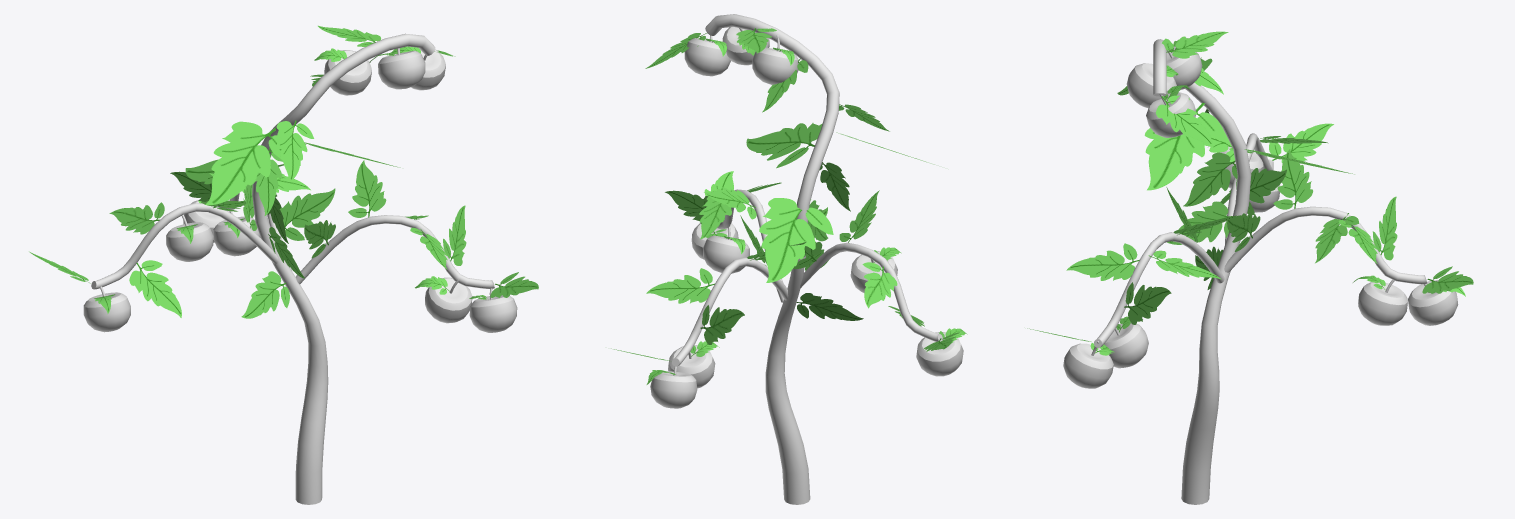
Rendered from TomatoBush.FBX.
3 renders of one model, left to right at view 1: azimuth 30°, elevation 25°; view 2: azimuth 150°, elevation 25°; view 3: azimuth 270°, elevation 25°, orthographic. The views are drawn at different scales.
Visible parts, largest first — view 1: TomatoBush, Leaves; view 2: TomatoBush, Leaves; view 3: TomatoBush, Leaves.
Boxes of the visible parts, x1,y1,x2,y2 form: TomatoBush: [83, 33, 517, 504]; Leaves: [29, 25, 538, 318]; TomatoBush: [650, 14, 963, 504]; Leaves: [611, 28, 967, 384]; TomatoBush: [1063, 39, 1458, 504]; Leaves: [1027, 31, 1473, 355].
Size of the model in its own units: 111 by 108 by 118.
